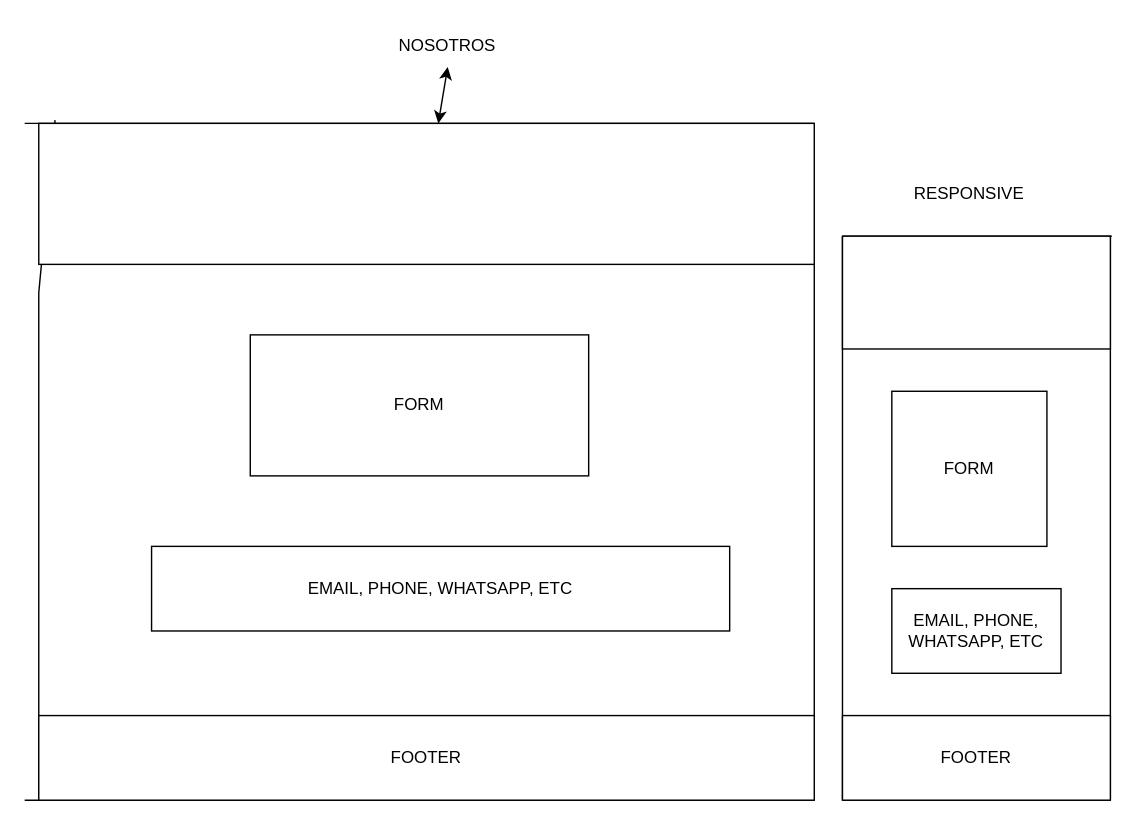
This 1138x826 diagram has some shape labels left out. The centre of each missing label's shape, as x and y in pixels:
"BARRA DE NAVEGACION" goes at point (425, 193).
"NAV BAR" goes at point (975, 292).
